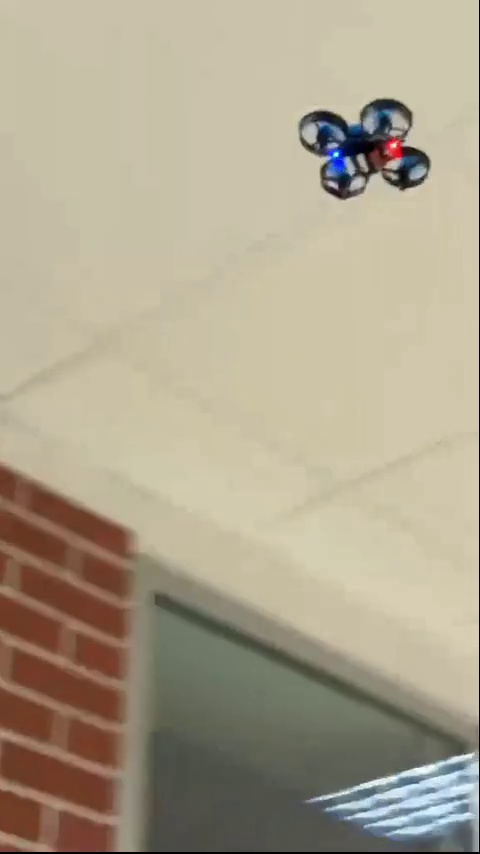drone: (298, 100, 432, 198)
